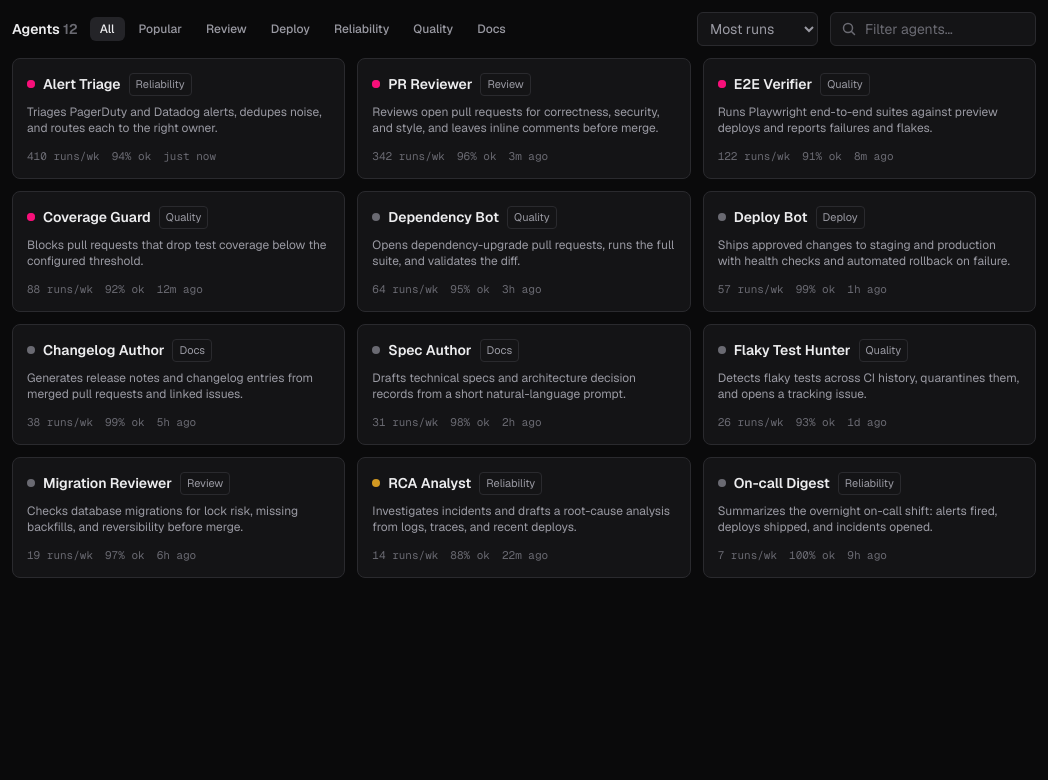
Test: <AgentGrid /> › filters agents by category tab
Click the button "Deploy".
click(290, 29)  # box [261, 17, 320, 41]
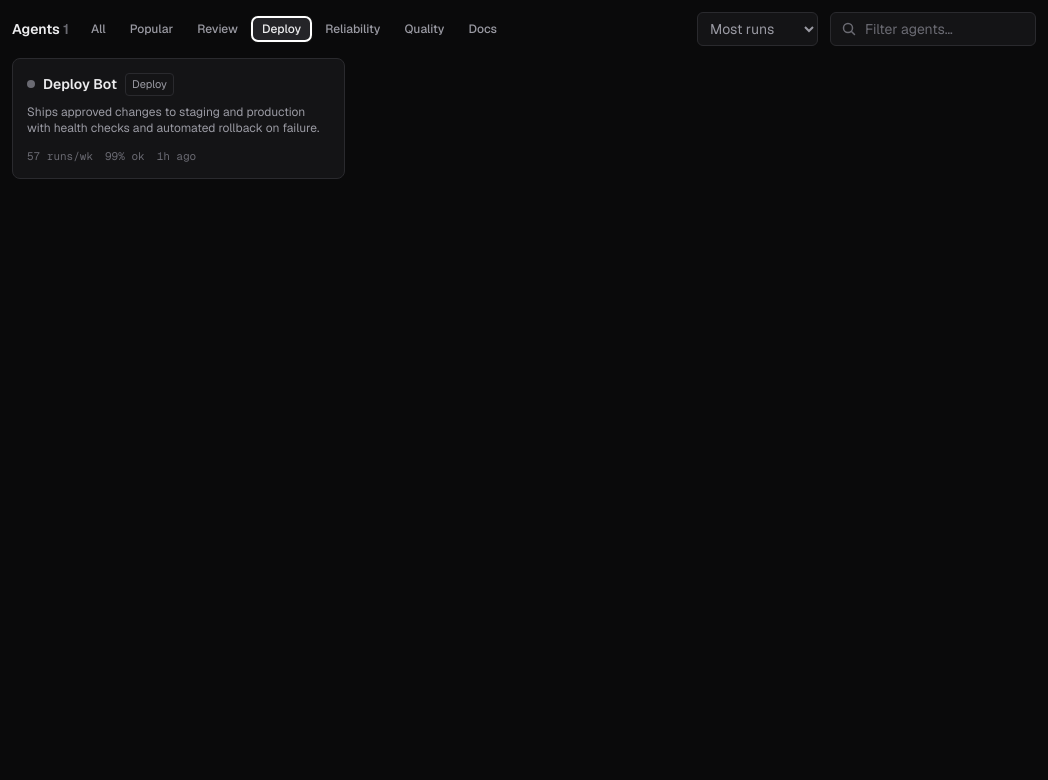
Check: the text "Deploy Bot" is shown, box [43, 74, 117, 94]
Check: the button "RCA Analyst" is gone
